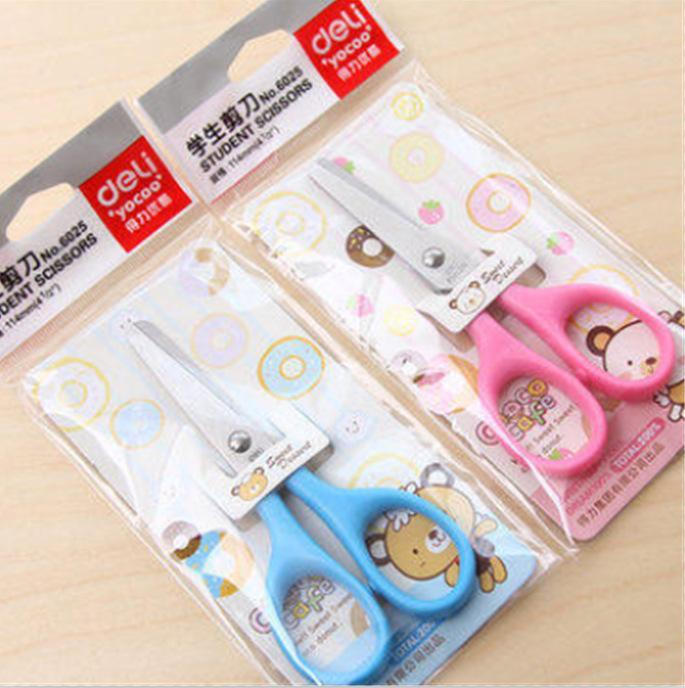scissor: (90, 120, 642, 611)
